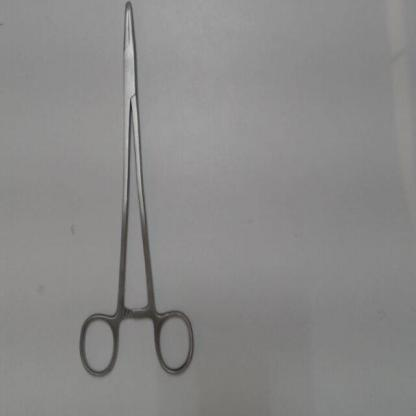8 Mayo Needle Holder: (71, 0, 203, 387)
